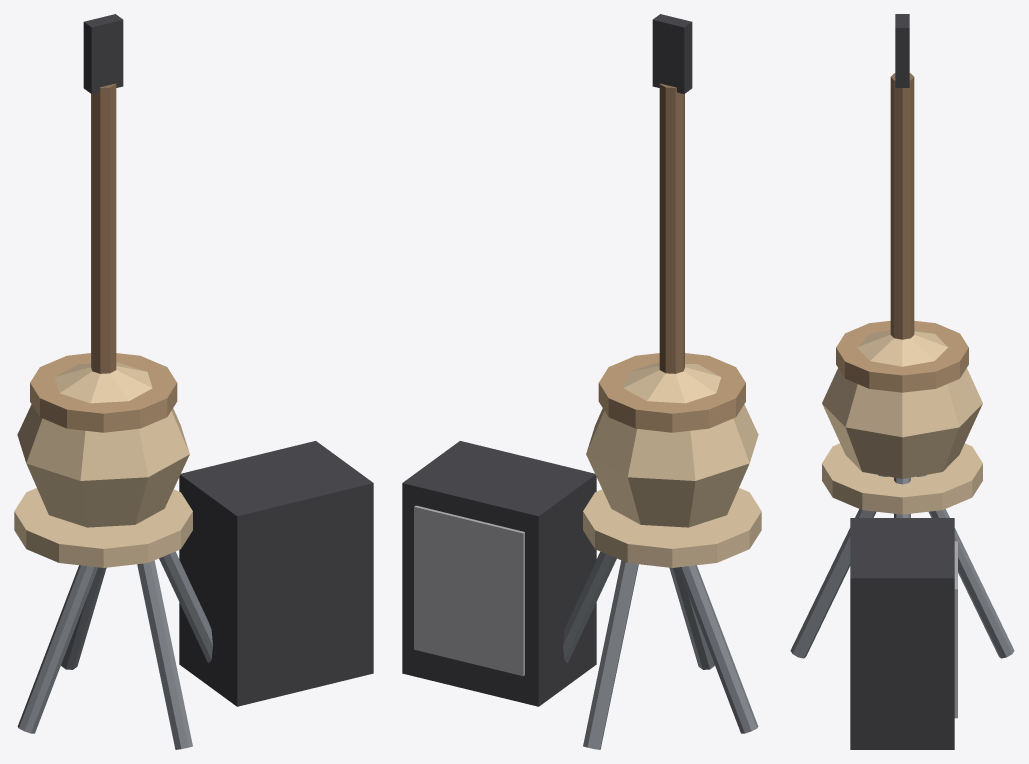
Rendered from guitar_stand.glb.
The picture shows the model from 3 angles, left to right: view 1: azimuth 30°, elevation 25°; view 2: azimuth 150°, elevation 25°; view 3: azimuth 270°, elevation 25°; orthographic projection. The views are drawn at different scales.
Parts seen in each view (by area): view 1: guitar_stand; view 2: guitar_stand; view 3: guitar_stand.
Boxes of the visible parts, box(x1,y1,x2,y2) form: guitar_stand: box(14, 14, 373, 749); guitar_stand: box(402, 14, 761, 749); guitar_stand: box(790, 14, 1014, 749).
Size of the model in its own units: 0.7165 by 1.46 by 0.473.
